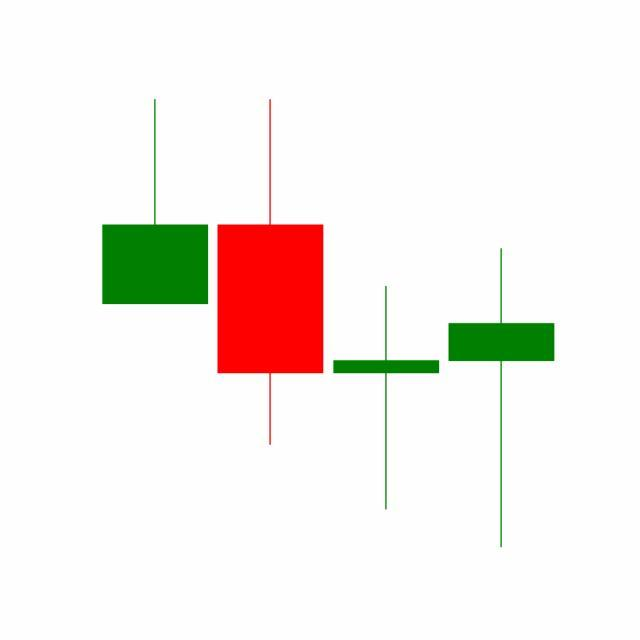Spinning Top: (444, 246, 560, 552)
